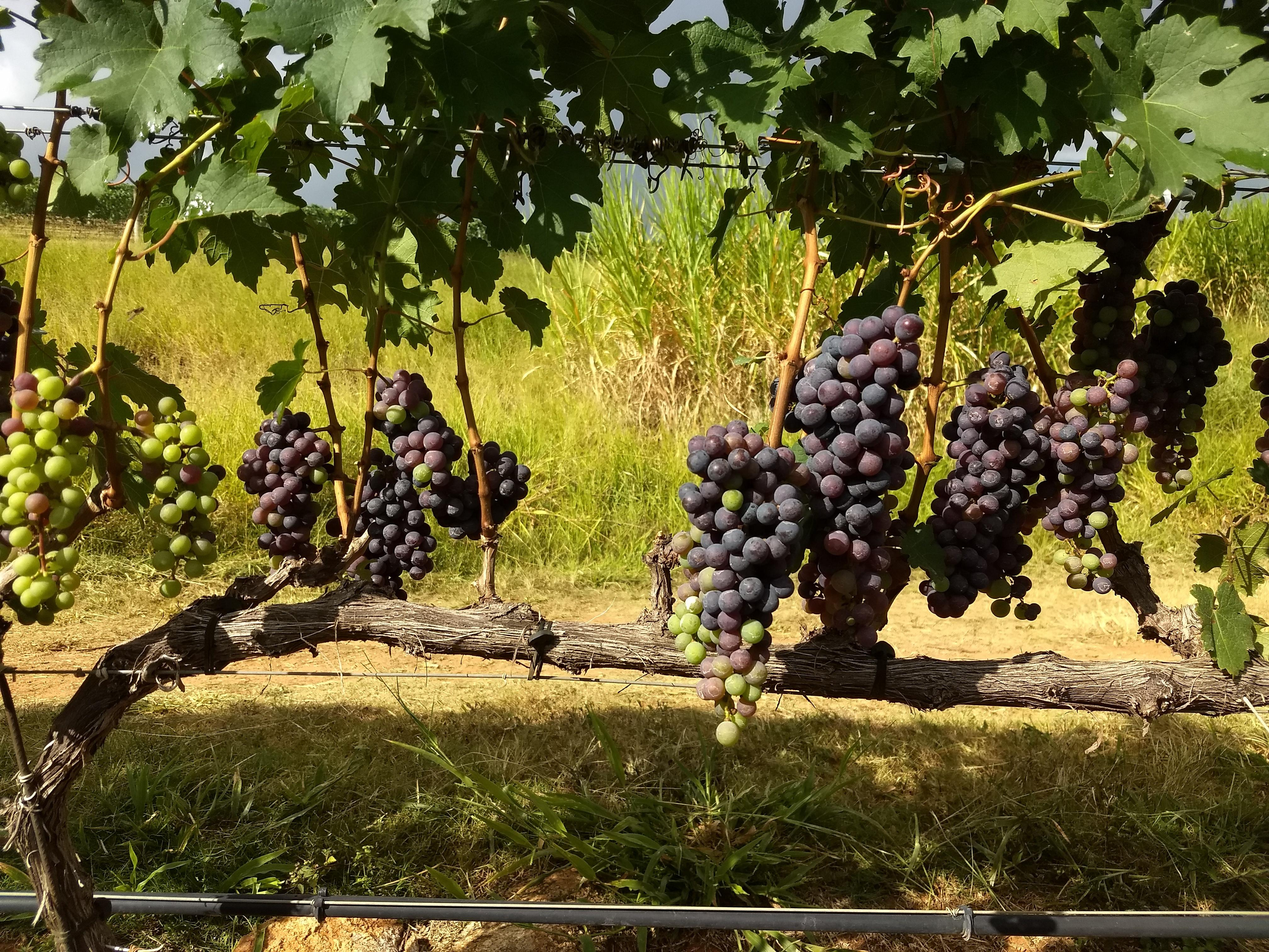leaf: (1076, 4, 1268, 192), (36, 0, 242, 142), (243, 0, 433, 122), (524, 144, 602, 270), (895, 0, 1004, 88), (982, 238, 1100, 317), (172, 152, 296, 220), (105, 343, 185, 424), (1151, 468, 1233, 525), (66, 124, 127, 197), (1211, 582, 1255, 677), (255, 339, 310, 415), (799, 7, 873, 56), (707, 184, 754, 261), (1224, 522, 1268, 595), (1002, 0, 1070, 47), (499, 286, 550, 348), (900, 522, 946, 579), (1191, 584, 1215, 656), (1193, 533, 1226, 572), (66, 343, 92, 370), (1247, 457, 1268, 490), (82, 375, 99, 398), (296, 2, 310, 9), (1199, 536, 1207, 545), (466, 77, 480, 82), (311, 0, 321, 5), (1195, 553, 1197, 563), (81, 187, 83, 190), (1218, 536, 1219, 537)
